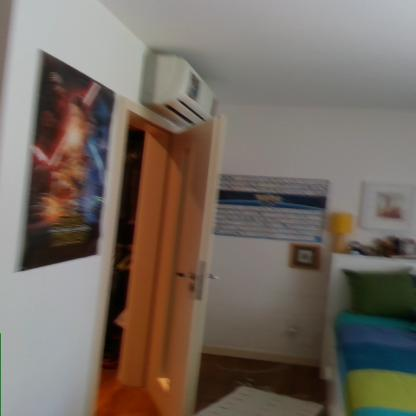semi: (107, 87, 217, 416)
